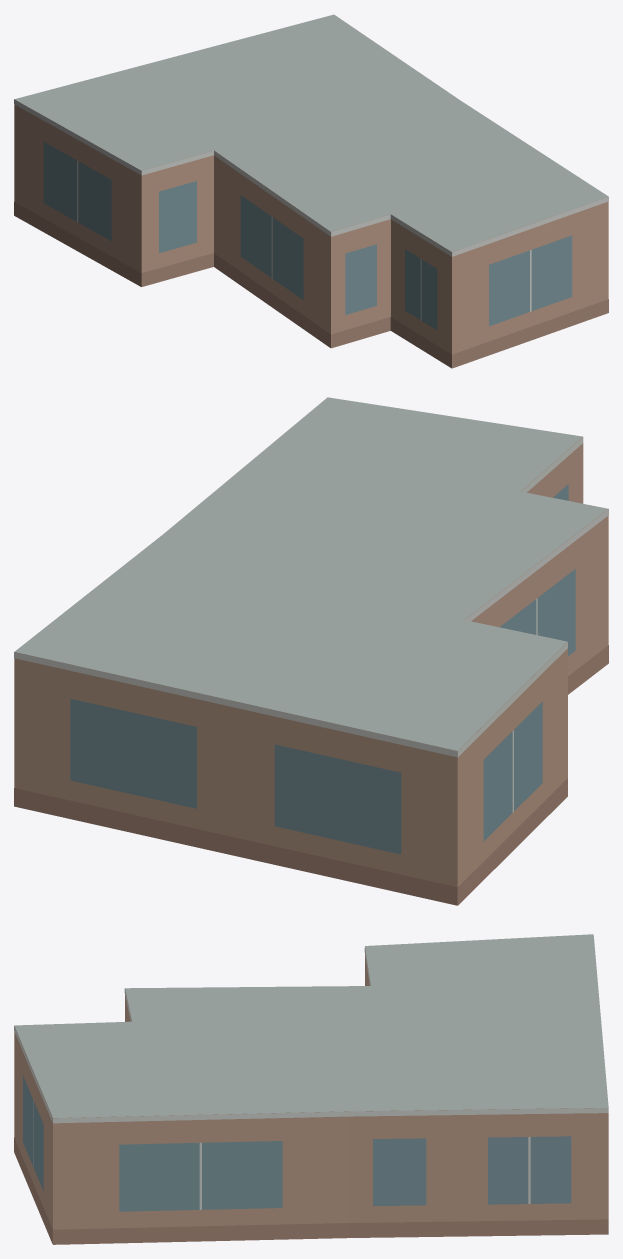
Rendered from survey-upis-32729815.glb.
The picture shows the model from 3 angles, top to bottom: view 1: azimuth 30°, elevation 25°; view 2: azimuth 150°, elevation 25°; view 3: azimuth 270°, elevation 25°; orthographic projection. The views are drawn at different scales.
Visible parts, largest first — view 1: survey-upis-32729815.tmp; view 2: survey-upis-32729815.tmp; view 3: survey-upis-32729815.tmp.
Part boxes in pixels (box(x1,y1,x2,y2)): survey-upis-32729815.tmp: box(14, 14, 608, 368); survey-upis-32729815.tmp: box(14, 397, 608, 905); survey-upis-32729815.tmp: box(14, 934, 608, 1244).
Size of the model in its own units: 9.51 by 3.05 by 12.99.
